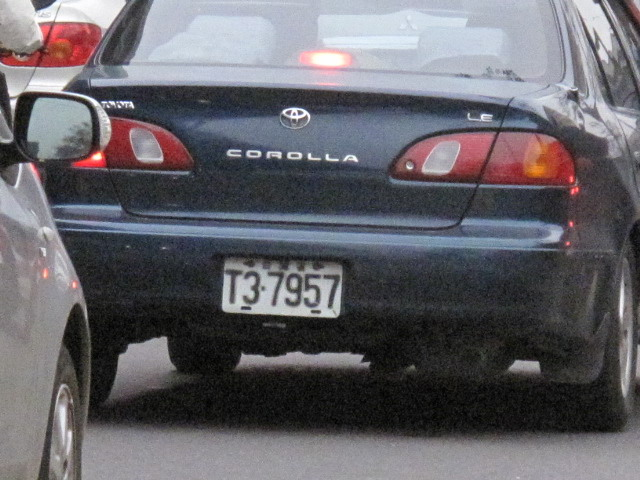plate: (219, 252, 344, 322)
